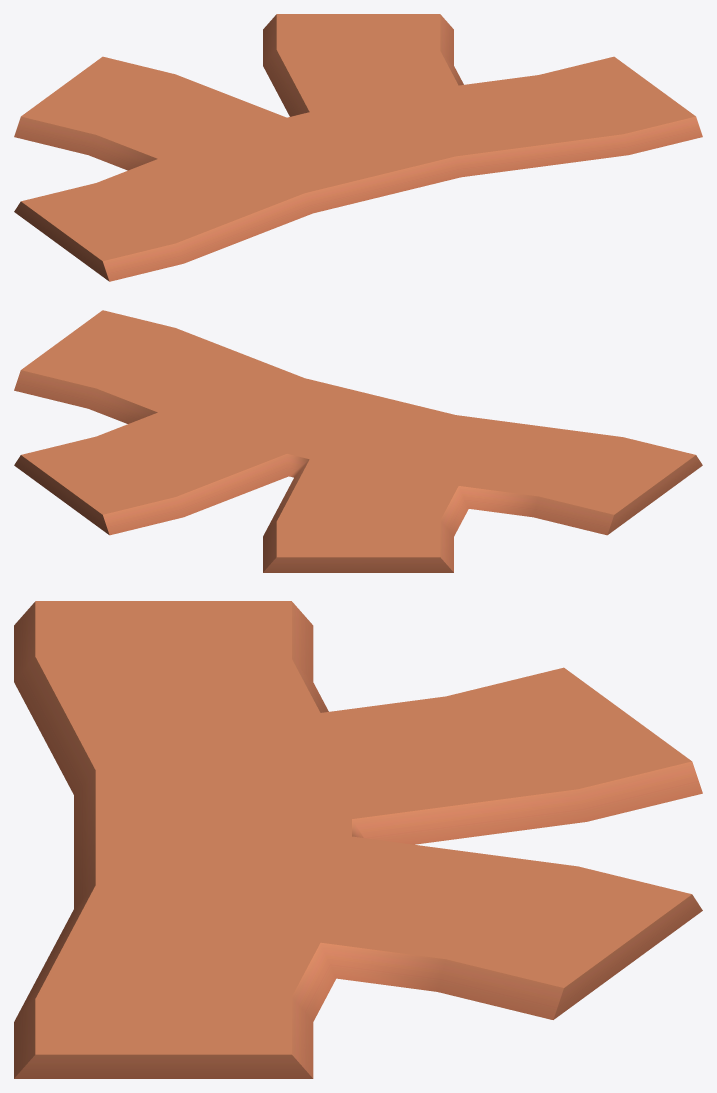
The model's file is kenney-hexagon-path-intersectionh.glb.
The picture shows the model from 3 angles, top to bottom: view 1: azimuth 30°, elevation 25°; view 2: azimuth 150°, elevation 25°; view 3: azimuth 270°, elevation 25°; orthographic projection. The views are drawn at different scales.
Parts seen in each view (by area): view 1: path_intersectionH; view 2: path_intersectionH; view 3: path_intersectionH.
Part boxes in pixels (bbox=[...]): path_intersectionH: bbox=[14, 14, 702, 281]; path_intersectionH: bbox=[14, 310, 702, 572]; path_intersectionH: bbox=[14, 601, 702, 1078].
Size of the model in its own units: 1 by 0.025 by 0.6423.
1 material, 1 textured.
